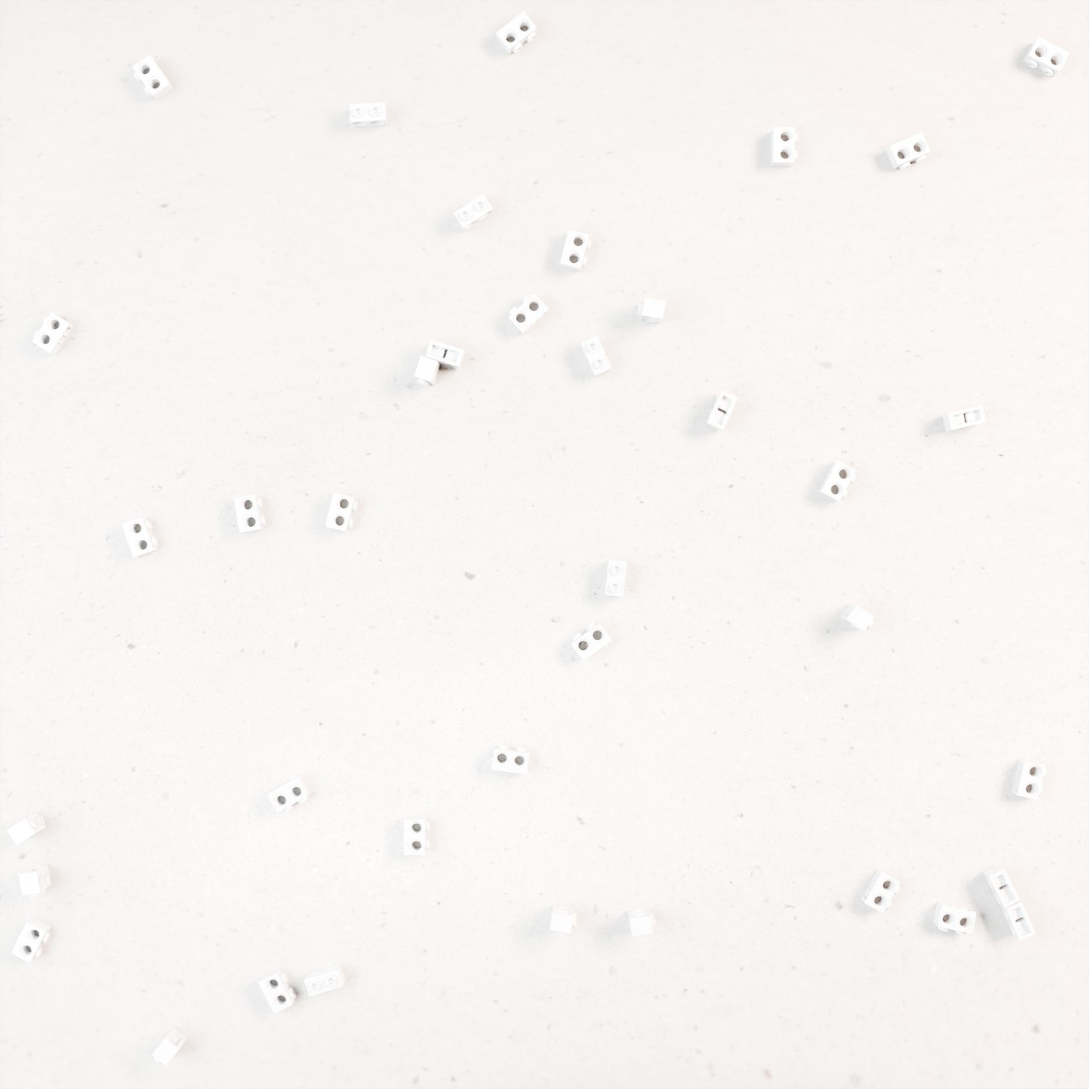lego: (132, 54, 174, 101), (1023, 36, 1070, 77), (32, 312, 75, 355), (496, 11, 537, 55), (11, 918, 51, 963), (861, 869, 900, 914), (258, 968, 296, 1014), (508, 293, 549, 335), (267, 774, 311, 813), (886, 132, 931, 170), (982, 864, 1020, 908), (999, 897, 1036, 941), (571, 622, 612, 661), (818, 460, 856, 502), (454, 194, 493, 232), (121, 517, 158, 557), (1012, 758, 1046, 800), (933, 902, 976, 935), (705, 390, 738, 432), (304, 964, 346, 997), (560, 229, 592, 272), (152, 1027, 187, 1066), (325, 492, 358, 532), (581, 336, 612, 378), (7, 813, 46, 845), (234, 494, 266, 533), (942, 405, 986, 432), (491, 744, 529, 775), (425, 340, 465, 369), (771, 127, 798, 167), (19, 864, 51, 897), (349, 102, 388, 128), (404, 817, 430, 855), (840, 603, 874, 631), (605, 560, 627, 597), (628, 908, 656, 937), (550, 904, 577, 934), (414, 356, 440, 387), (637, 298, 666, 324)
